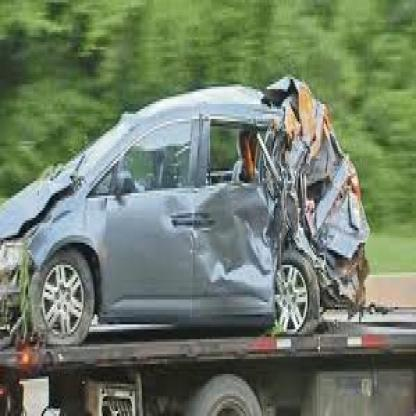accident: (1, 93, 399, 346)
